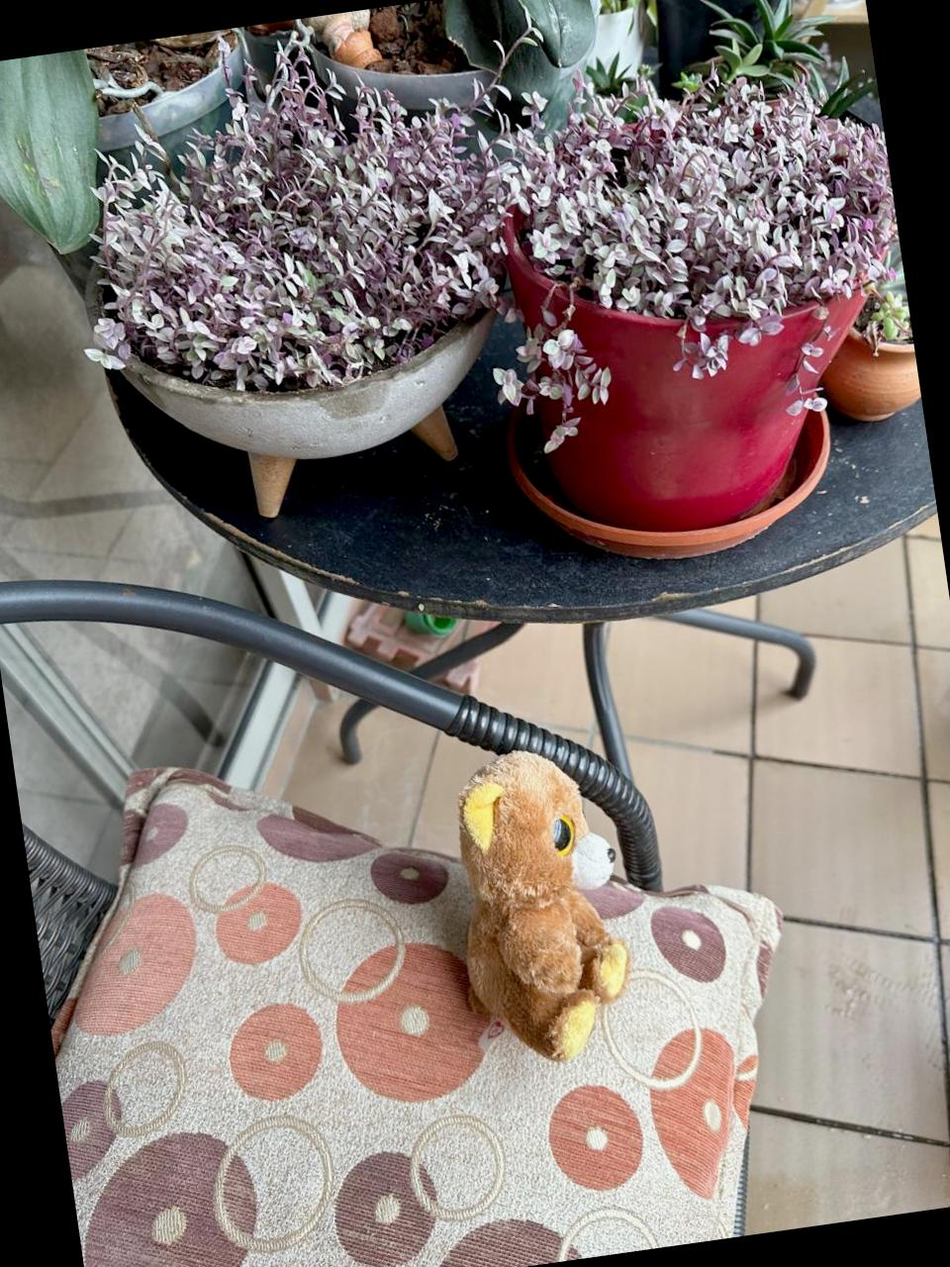peluche_sebastian: (429, 745, 648, 1073)
